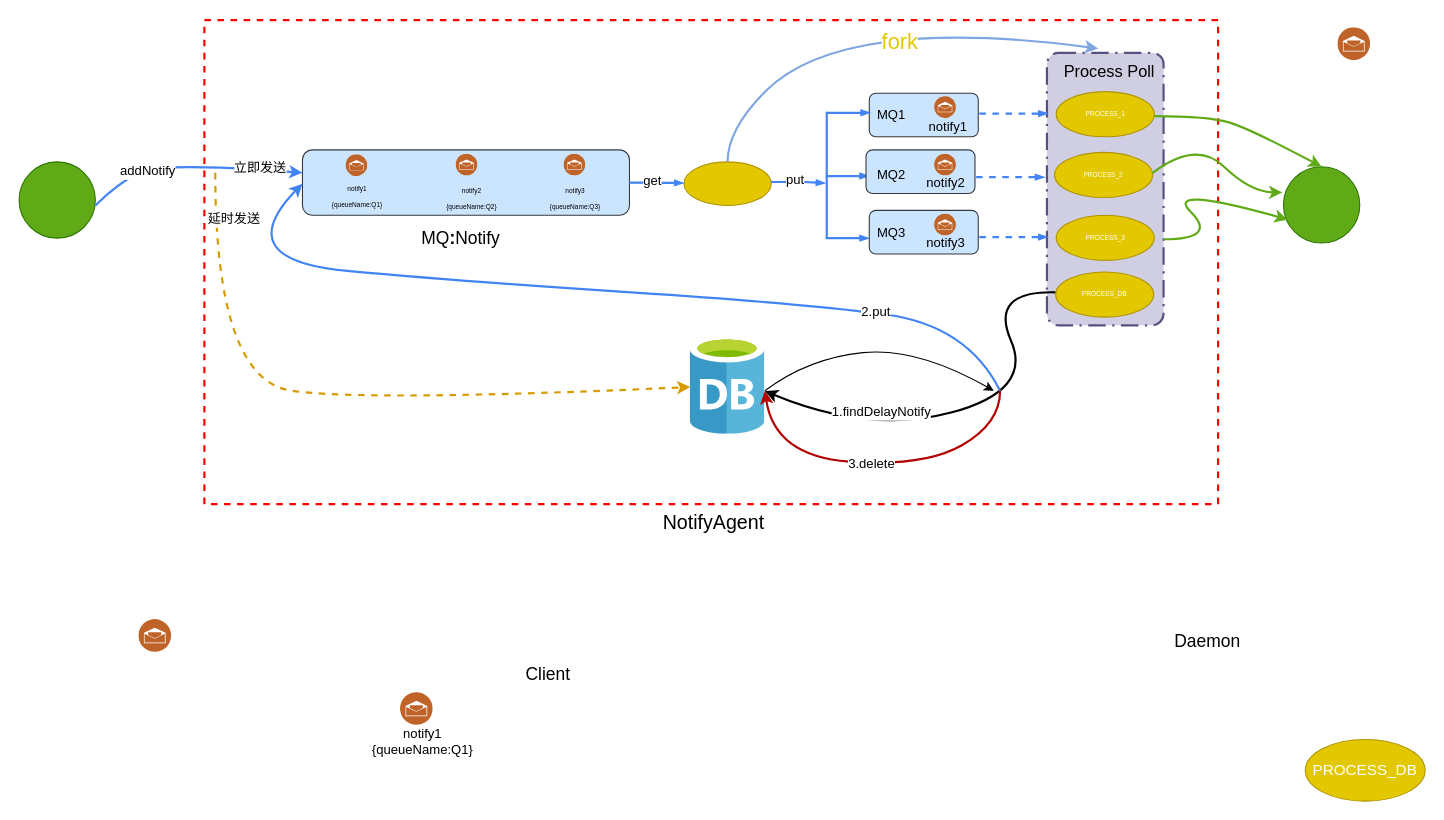
The diagram is 1444 pixels wide and 820 high, and some of its shapes have lost their labels. Each missing label, with the centre of its shape:
"appA" goes at point (56, 199).
"appB" goes at point (1321, 204).
"main" goes at point (727, 183).
